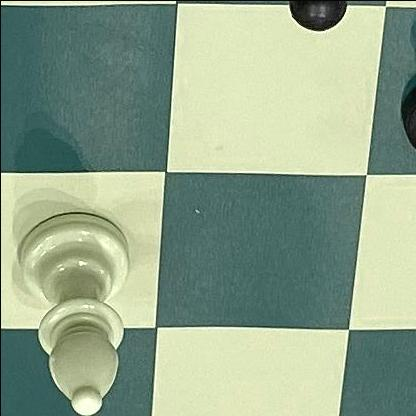black-pawn: (241, 0, 376, 58), (387, 53, 416, 239)
white-bishop: (0, 199, 139, 416)
